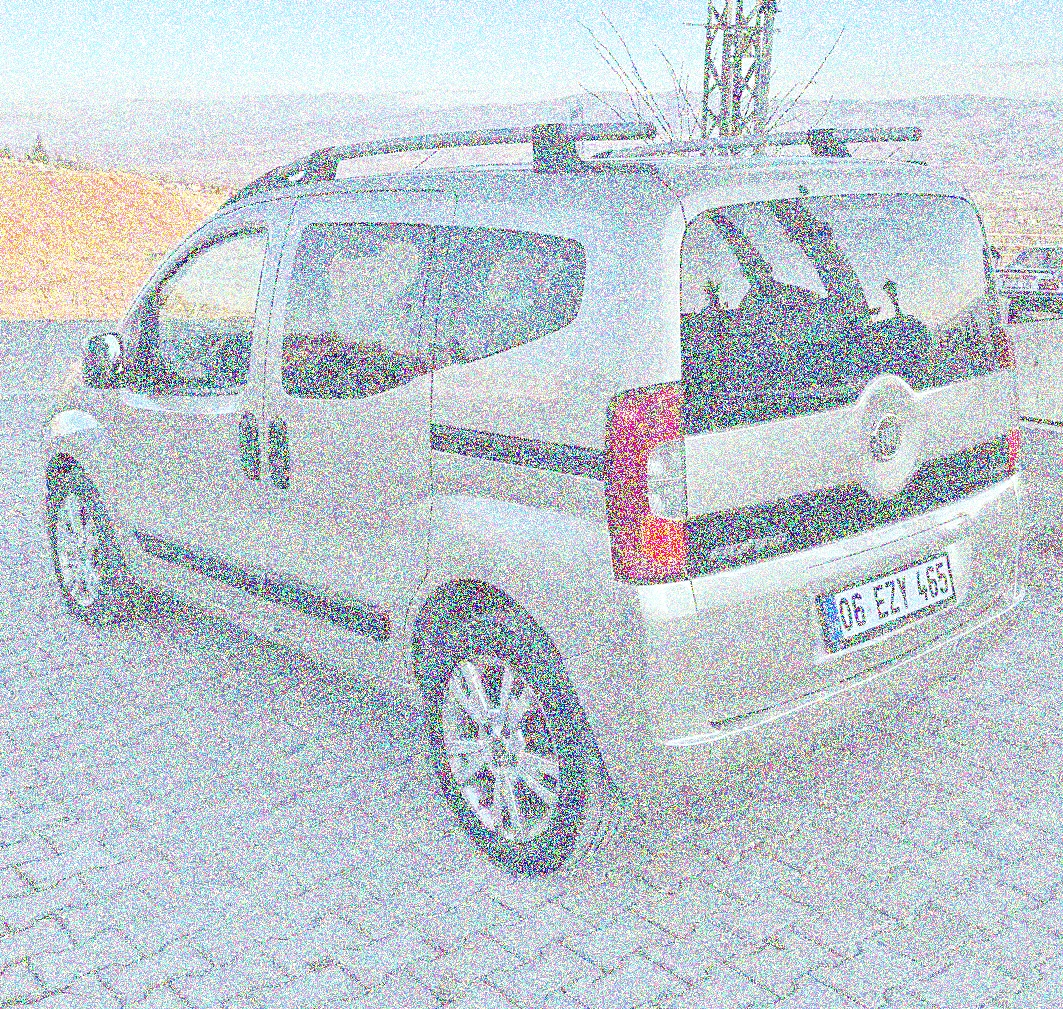plaka: (810, 559, 976, 633)
